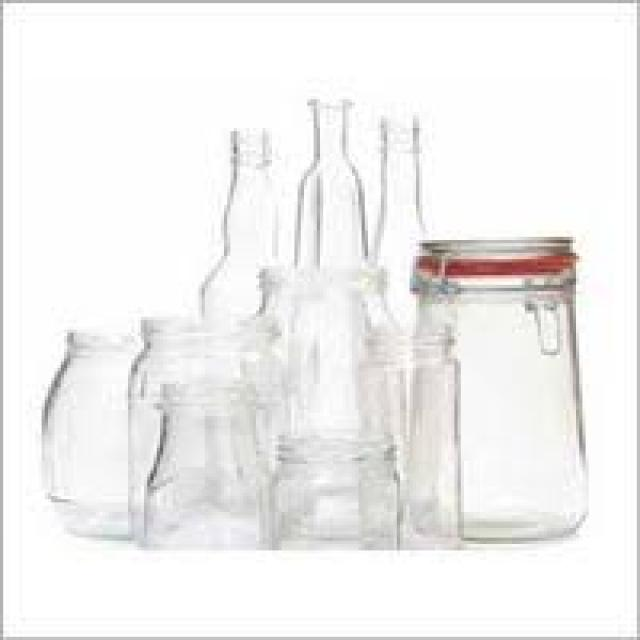glass: (410, 234, 586, 535), (125, 317, 285, 534), (253, 266, 403, 435), (358, 320, 461, 547), (144, 381, 269, 541), (42, 327, 147, 500), (266, 429, 397, 544), (199, 125, 279, 310), (291, 96, 365, 262), (371, 115, 429, 323), (61, 503, 154, 538)
